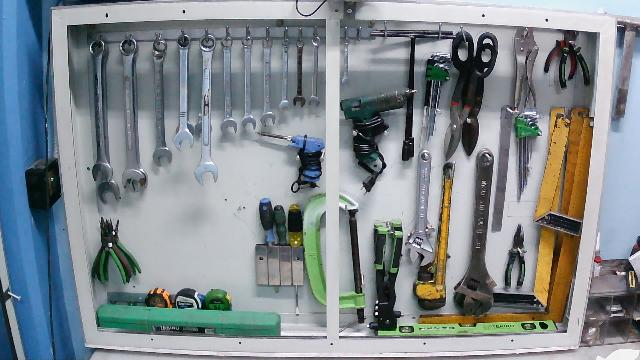meteran: (143, 285, 174, 310)
